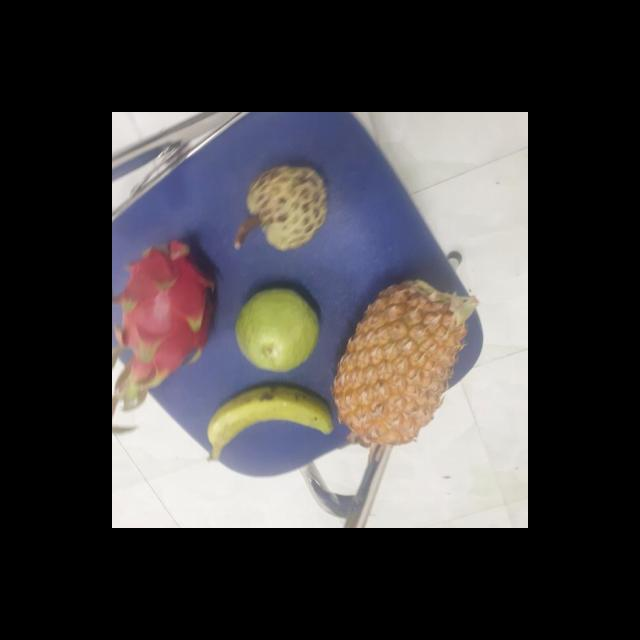Sakya fruit: (244, 165, 333, 248)
guava: (234, 286, 325, 371)
pineapple: (338, 276, 474, 439)
pitaya: (112, 238, 222, 393)
